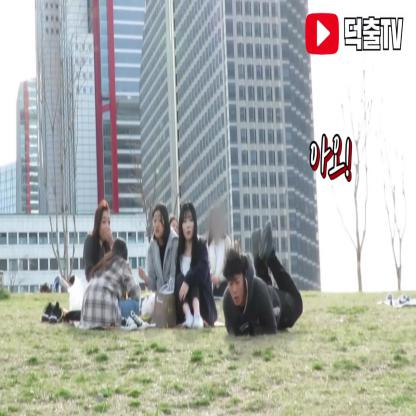Fall_Down: (220, 217, 307, 342)
